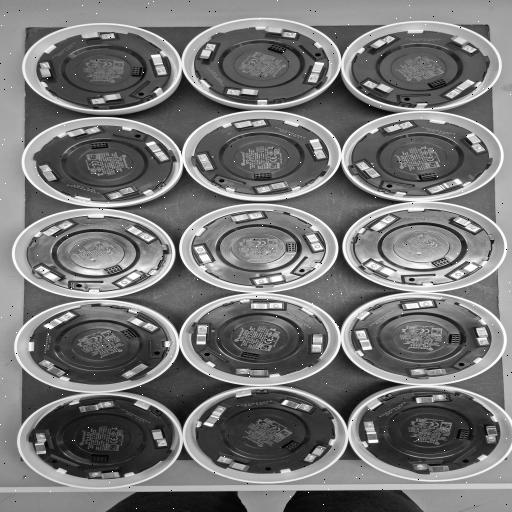konnektor: (86, 454, 113, 465), (429, 256, 450, 269), (280, 440, 301, 452), (453, 429, 472, 442), (411, 171, 439, 179), (426, 78, 448, 88), (266, 44, 288, 54), (238, 353, 264, 361), (88, 142, 114, 150), (445, 333, 462, 345), (255, 169, 275, 179), (120, 328, 135, 341), (101, 265, 122, 274), (283, 241, 296, 254), (131, 65, 142, 78)
yaysiz: (215, 454, 255, 473), (140, 140, 170, 165), (362, 259, 400, 278), (406, 364, 451, 380), (116, 361, 152, 381), (274, 397, 319, 413), (395, 298, 439, 314), (74, 398, 118, 414), (38, 358, 71, 379), (446, 78, 477, 100), (33, 265, 67, 285), (450, 260, 484, 280), (42, 312, 76, 332), (351, 328, 377, 354), (74, 30, 122, 44), (253, 180, 295, 196), (200, 404, 228, 428), (447, 34, 480, 54), (302, 138, 330, 161), (88, 91, 128, 107), (40, 220, 75, 238), (303, 60, 327, 86), (461, 131, 487, 155), (359, 420, 383, 446), (146, 51, 169, 78), (352, 160, 383, 180), (227, 118, 271, 132), (62, 125, 103, 140), (365, 34, 399, 52), (447, 215, 483, 232), (106, 185, 144, 201), (427, 178, 465, 194), (122, 224, 154, 243), (228, 210, 268, 225), (299, 230, 325, 253), (407, 462, 453, 475), (359, 80, 396, 96), (122, 315, 159, 331), (30, 431, 51, 459), (407, 392, 449, 406), (150, 425, 172, 451), (302, 442, 330, 462), (193, 244, 217, 267), (228, 366, 274, 378), (261, 25, 297, 40), (84, 468, 129, 480), (469, 324, 492, 347), (38, 162, 62, 184), (480, 421, 501, 446), (369, 215, 398, 233), (252, 273, 292, 286), (379, 120, 416, 134), (221, 87, 263, 99), (118, 269, 146, 287), (197, 41, 219, 63), (196, 152, 218, 174), (192, 322, 212, 346), (308, 330, 328, 354), (36, 59, 55, 84), (246, 300, 286, 311)
